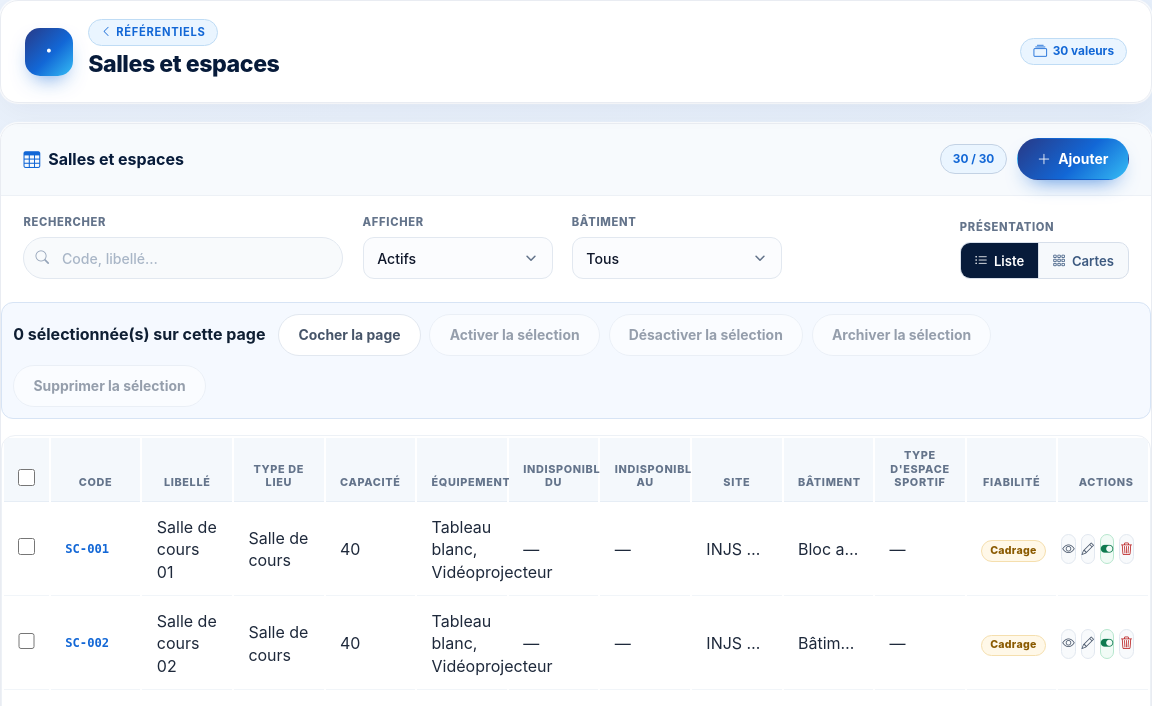
it: écran générique — présentations liste / cartes et pagination › visualise la fiche détaillée d’une salle
Click the button named "Visualiser Salle de cours 01": (1069, 550) [1061,534,1076,564]
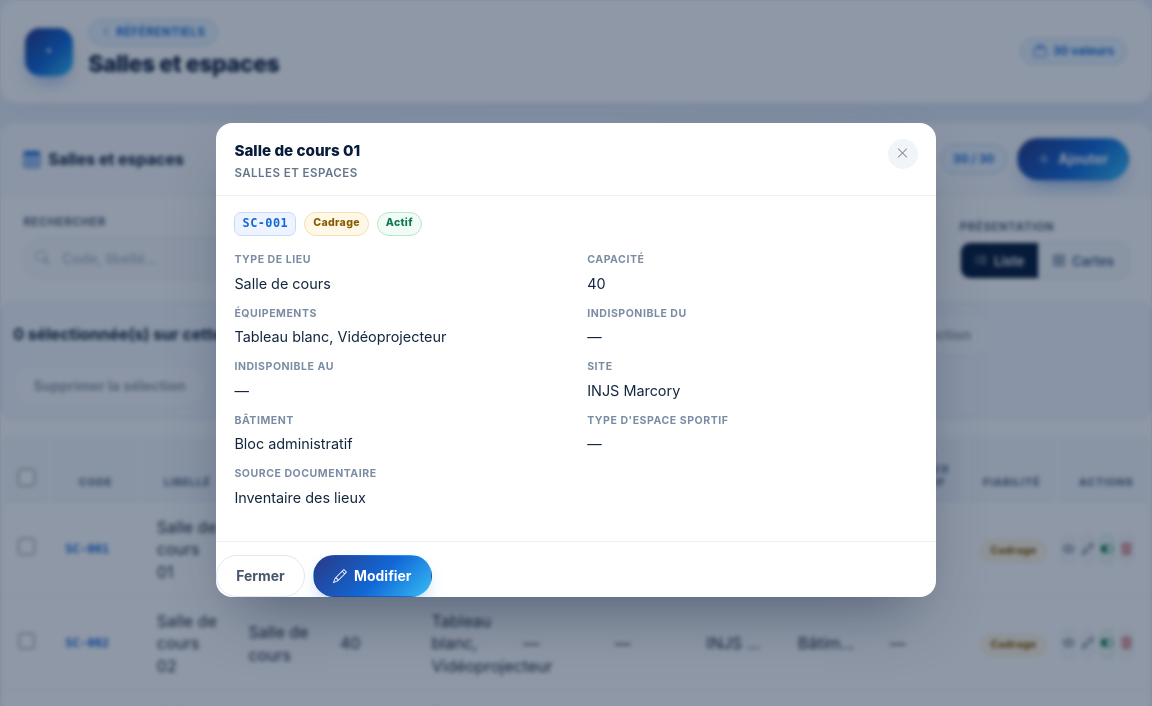
Result: the heading "Salle de cours 01 Salles et espaces" is shown at [234,139,360,182]
Result: the text "Bloc administratif" is shown at [234,435,352,452]
Result: the text "Tableau blanc, Vidéoprojecteur" is shown at [234,328,446,345]
Click the button "Fermer": (260, 576) [216,555,305,597]
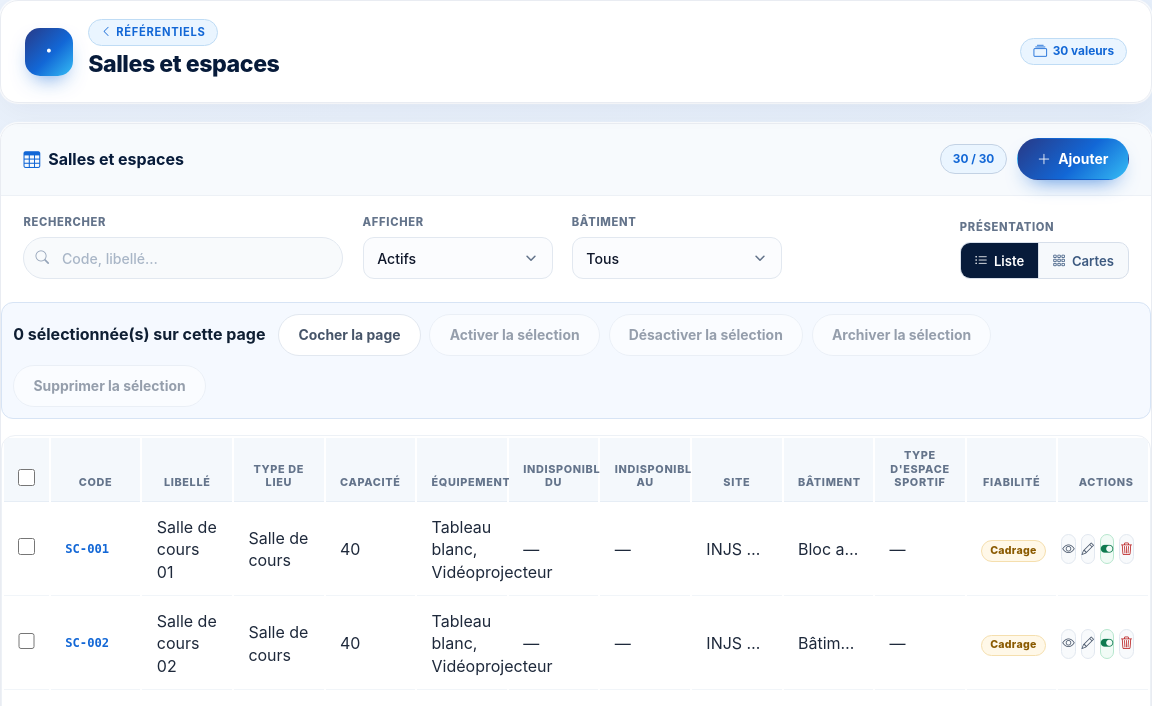
Result: the dialog is gone
